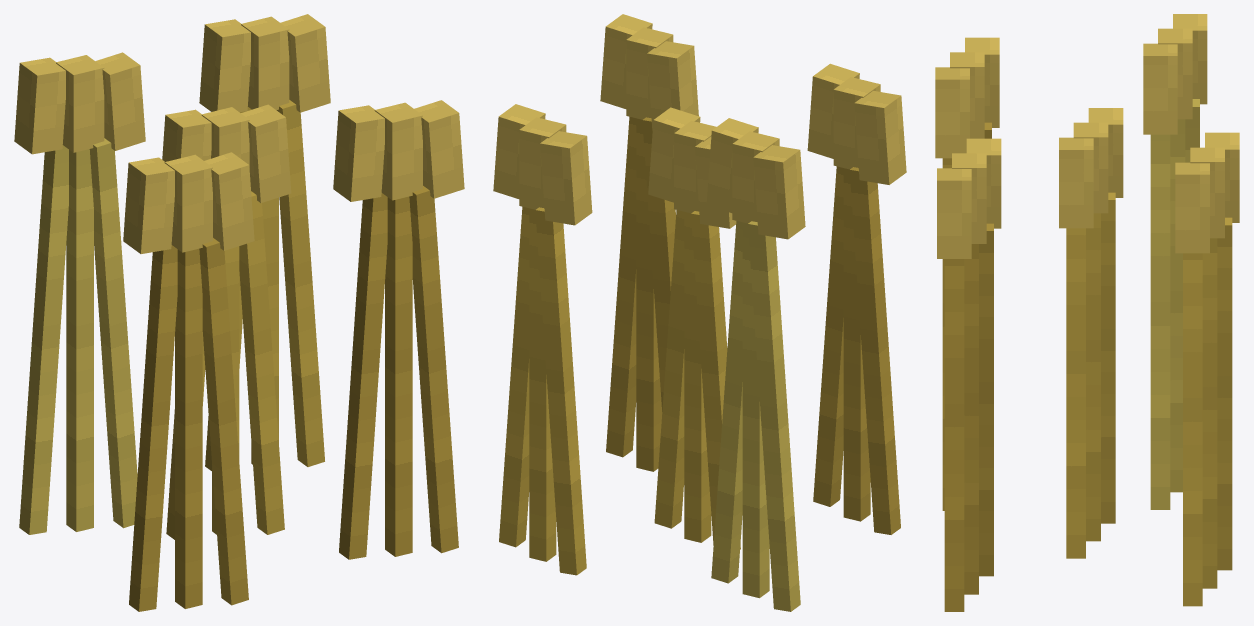
File: crop_ble_3.glb
3 renders of one model, left to right at view 1: azimuth 30°, elevation 25°; view 2: azimuth 150°, elevation 25°; view 3: azimuth 270°, elevation 25°, orthographic. The views are drawn at different scales.
Visible parts, largest first — view 1: Crop; view 2: Crop; view 3: Crop.
Boxes of the visible parts, x1,y1,x2,y2 form: Crop: (14, 14, 464, 611); Crop: (493, 14, 906, 611); Crop: (935, 14, 1239, 611).
Size of the model in its own units: 0.7156 by 1.01 by 0.6162.
Materials: 4 (4 with a texture image).
